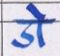o_matra: (30, 4, 45, 46)
